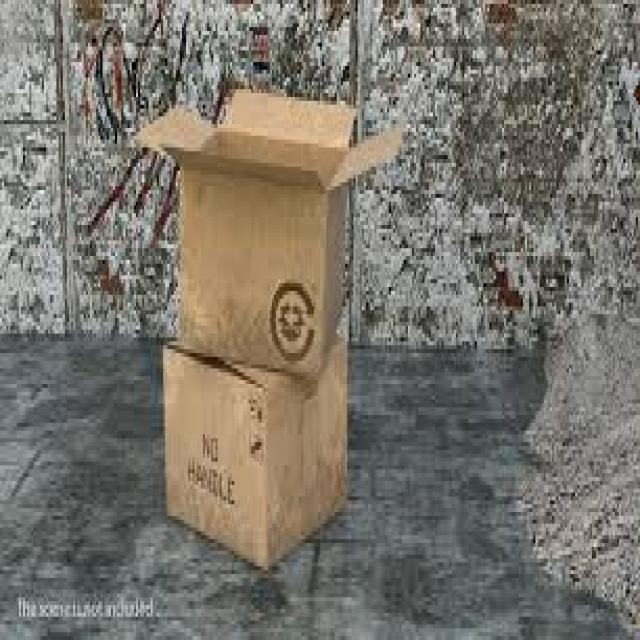cardboard: (138, 86, 402, 373), (159, 326, 345, 570), (178, 171, 322, 380), (161, 346, 268, 563)
